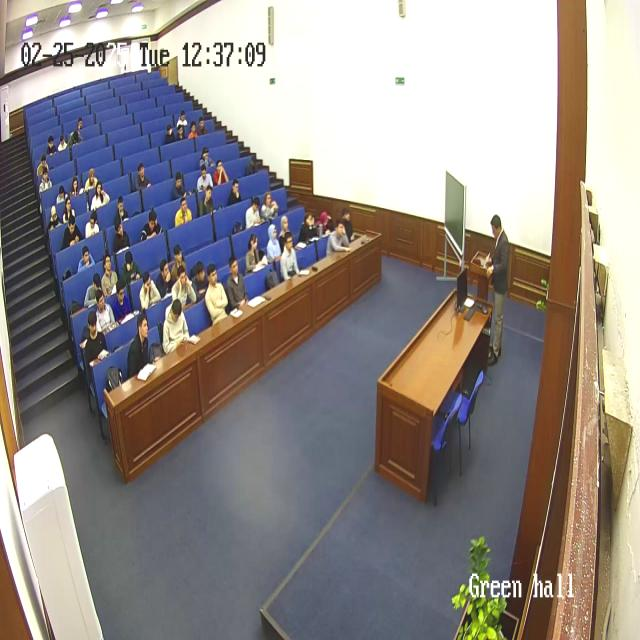person: (483, 212, 511, 364), (125, 314, 154, 380), (80, 310, 108, 369), (162, 298, 190, 354), (204, 266, 229, 325), (224, 256, 248, 312), (171, 266, 197, 308), (110, 280, 134, 325), (94, 288, 118, 332), (279, 232, 301, 280), (140, 270, 162, 314), (325, 218, 350, 255), (100, 252, 120, 298), (265, 220, 283, 270), (244, 232, 264, 276), (120, 250, 142, 289), (62, 212, 82, 248), (112, 216, 132, 252), (140, 210, 162, 242), (157, 257, 175, 296), (190, 262, 208, 300), (171, 244, 189, 280), (174, 193, 193, 227), (300, 212, 320, 244), (245, 196, 263, 230), (91, 180, 110, 212), (78, 243, 96, 276), (261, 191, 279, 223), (82, 272, 100, 303), (341, 204, 356, 240), (115, 195, 131, 228), (199, 186, 215, 218), (136, 161, 152, 192), (84, 210, 100, 240), (39, 165, 53, 198), (172, 170, 187, 200), (318, 208, 334, 236), (196, 164, 212, 192), (213, 160, 229, 187), (227, 180, 243, 206), (46, 204, 62, 230), (62, 197, 77, 224), (279, 211, 290, 245), (55, 184, 69, 210), (84, 166, 98, 191), (69, 172, 82, 198), (69, 124, 83, 148), (174, 120, 188, 142), (199, 146, 213, 168), (56, 132, 68, 156), (165, 122, 178, 144), (187, 118, 199, 140), (196, 116, 208, 136), (75, 116, 85, 138), (177, 110, 189, 126), (47, 134, 57, 152), (37, 158, 49, 173)
